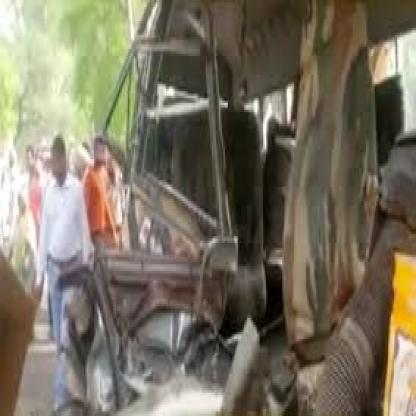accident: (69, 0, 416, 416)
